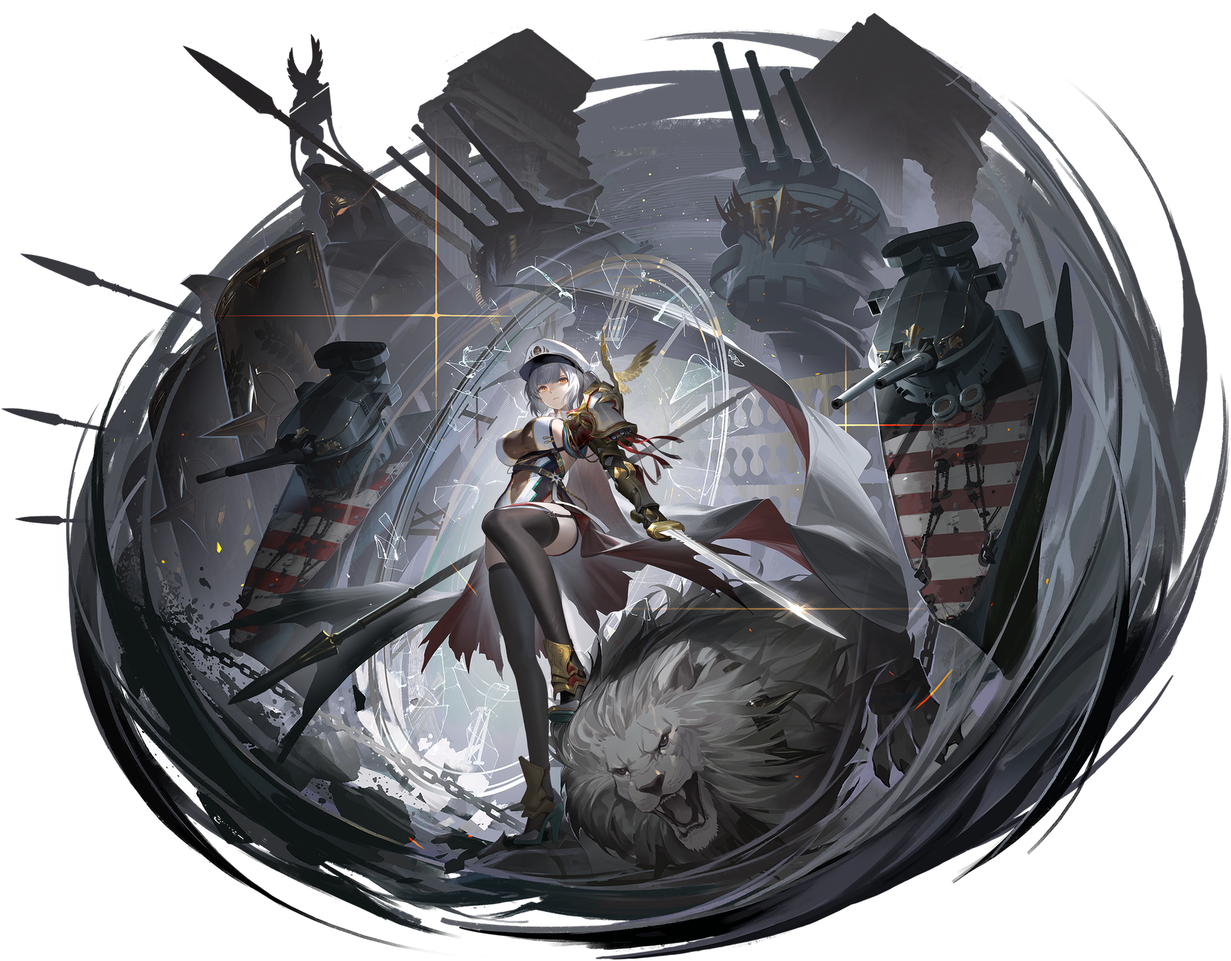person: (445, 319, 742, 849)
